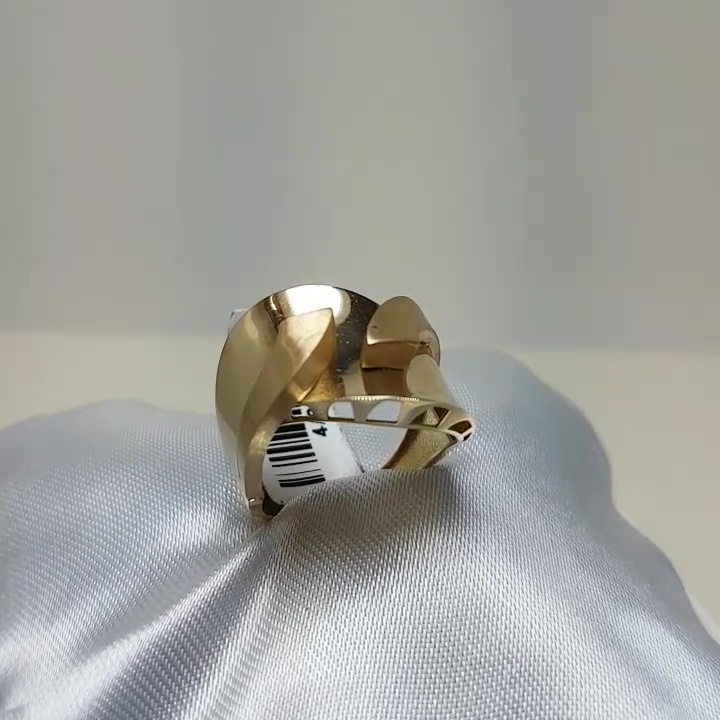Ring 4: (196, 261, 471, 549)
